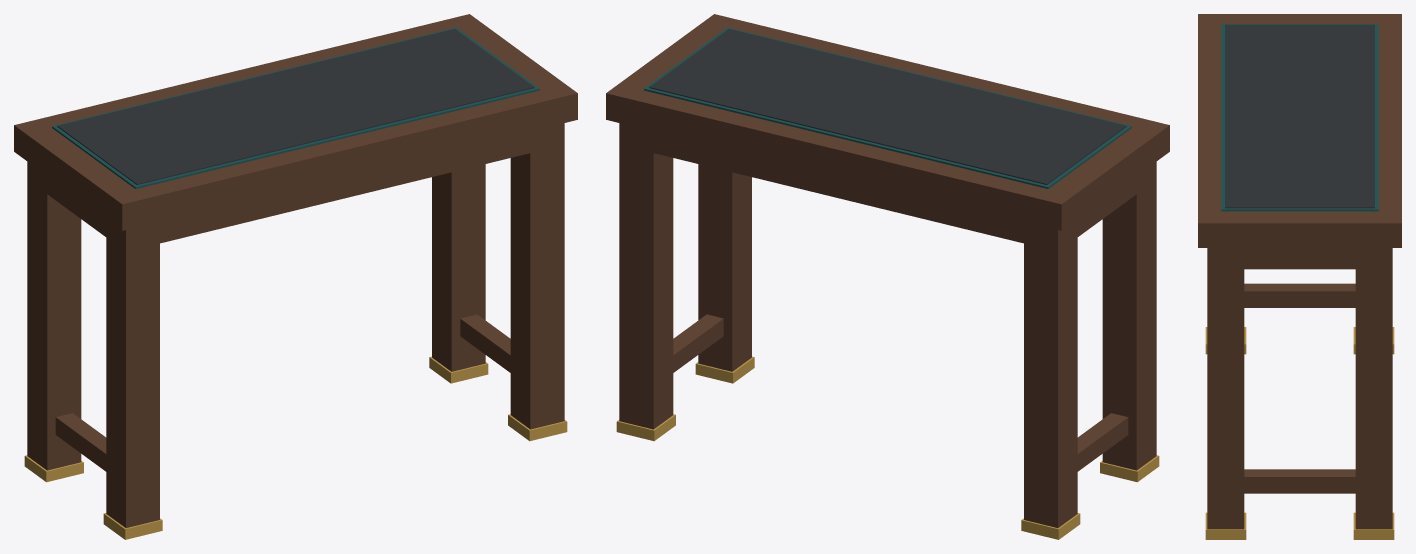
The model's file is sideTable.glb.
3 views of the same model, side by side, from view 1: azimuth 30°, elevation 25°; view 2: azimuth 150°, elevation 25°; view 3: azimuth 270°, elevation 25° (orthographic). The views are drawn at different scales.
Visible parts, largest first — view 1: sideTable(Clone); view 2: sideTable(Clone); view 3: sideTable(Clone).
Part boxes in pixels (bbox=[...]): sideTable(Clone): bbox=[14, 14, 577, 539]; sideTable(Clone): bbox=[606, 14, 1169, 539]; sideTable(Clone): bbox=[1198, 14, 1401, 539].
Size of the model in its own units: 0.5345 by 0.3844 by 0.22.
